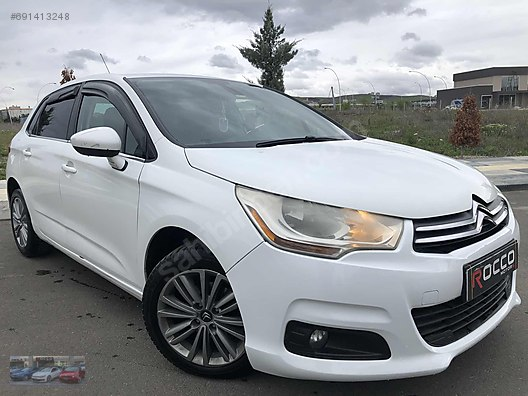citroen: (3, 68, 524, 381)
